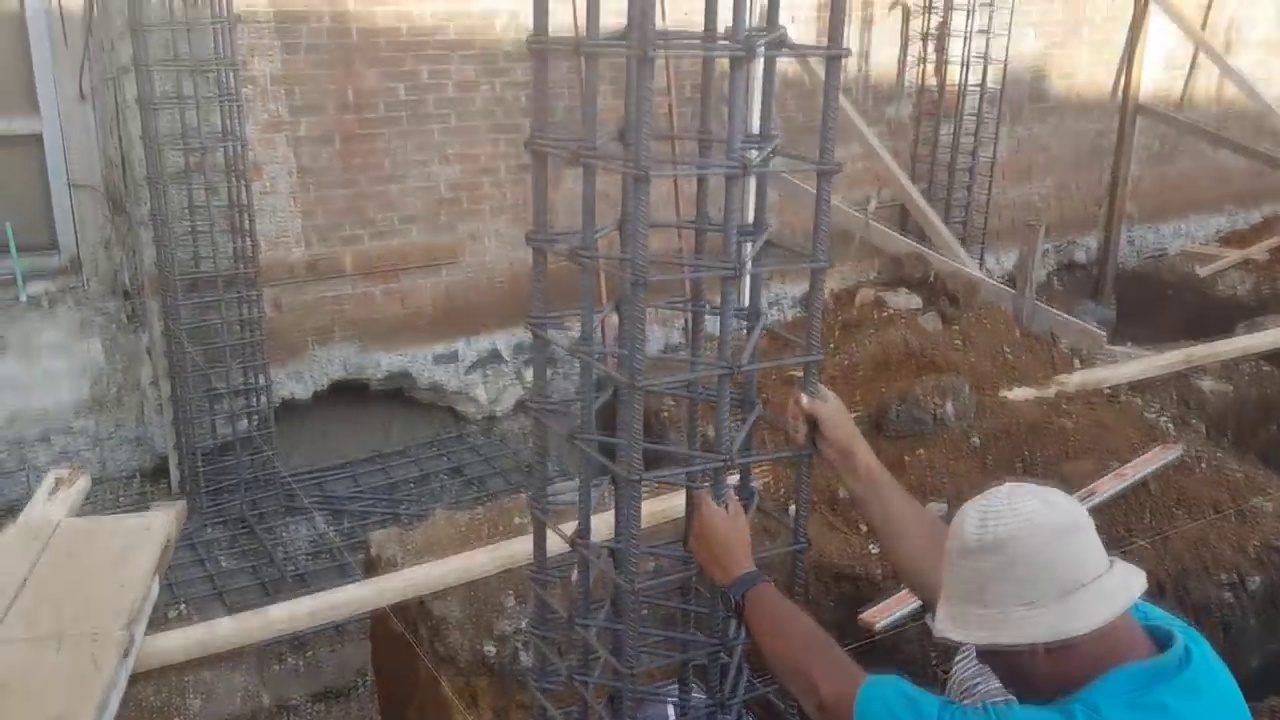helmet-off: (929, 493, 1166, 677)
person: (680, 377, 1254, 720)
